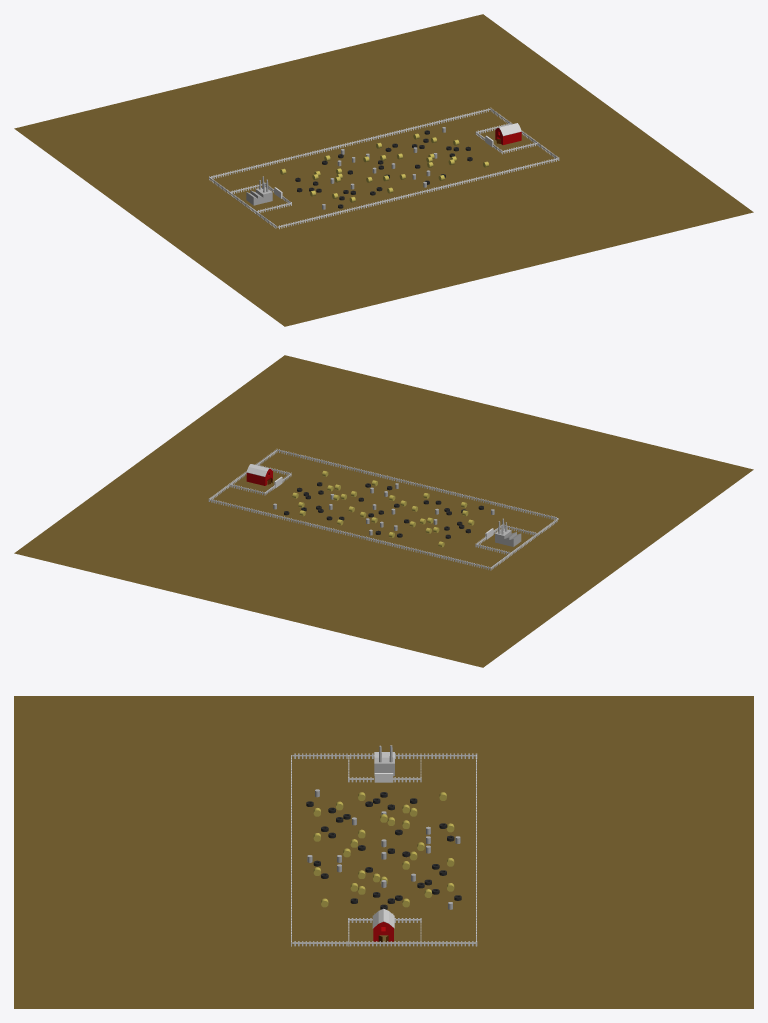
The model's file is Map6.fbx.
The picture shows the model from 3 angles, top to bottom: view 1: azimuth 30°, elevation 25°; view 2: azimuth 150°, elevation 25°; view 3: azimuth 270°, elevation 25°; orthographic projection. The views are drawn at different scales.
Visible parts, largest first — view 1: Terrain, Barrieres, Obstacles; view 2: Terrain, Barrieres, Obstacles; view 3: Terrain, Obstacles, Barrieres, Ferme.
Boxes of the visible parts, <box> form: Terrain: <box>14,14,753,326</box>; Barrieres: <box>209,107,559,229</box>; Obstacles: <box>280,127,488,209</box>; Terrain: <box>14,355,753,667</box>; Barrieres: <box>208,449,558,570</box>; Obstacles: <box>273,471,494,547</box>; Terrain: <box>14,696,753,1008</box>; Obstacles: <box>306,789,461,909</box>; Barrieres: <box>291,753,477,946</box>; Ferme: <box>372,908,394,942</box>.
Bounding box in the file's own units: 200 × 9.78 × 200.
